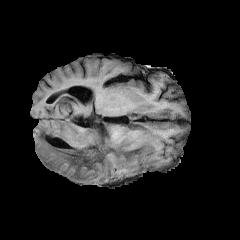glioma: (36, 121, 156, 181)
